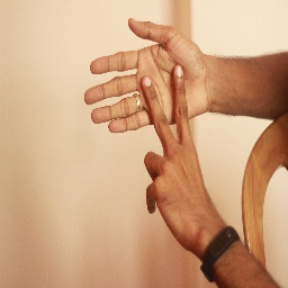N: (82, 17, 221, 182)
